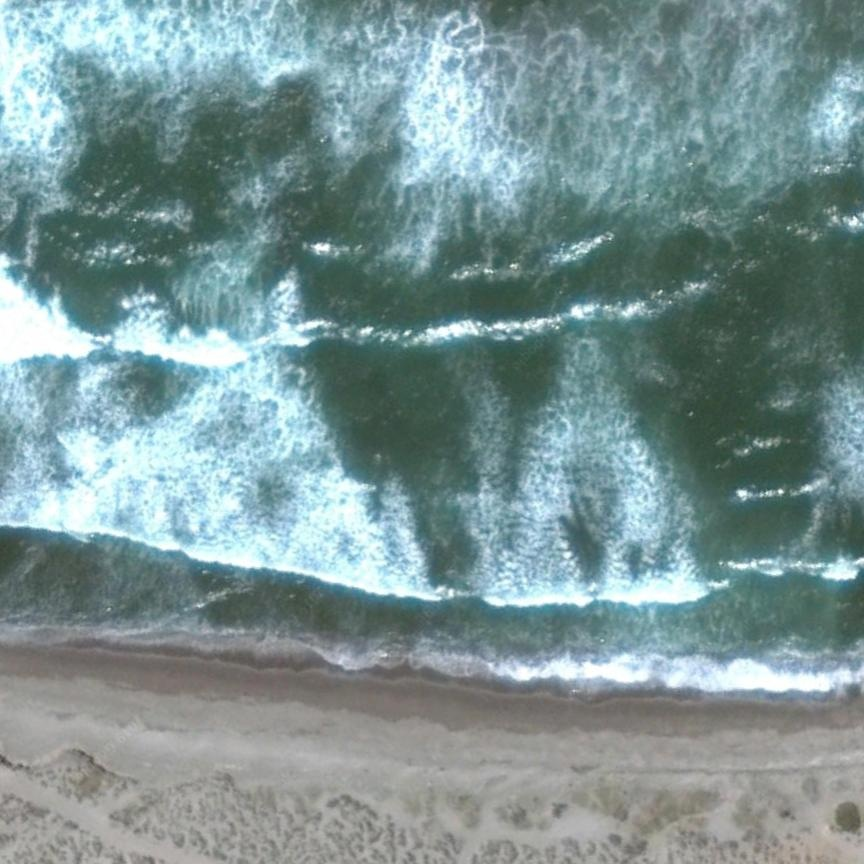rip_current: (265, 143, 578, 638)
